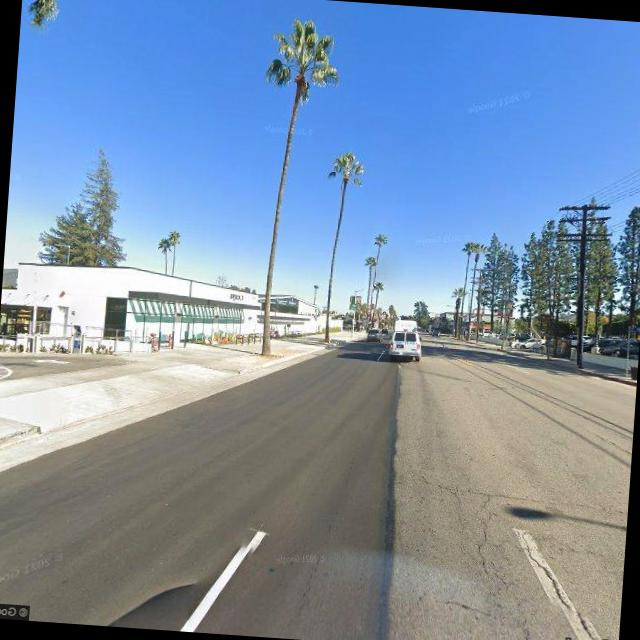crack: (414, 481, 567, 640)
